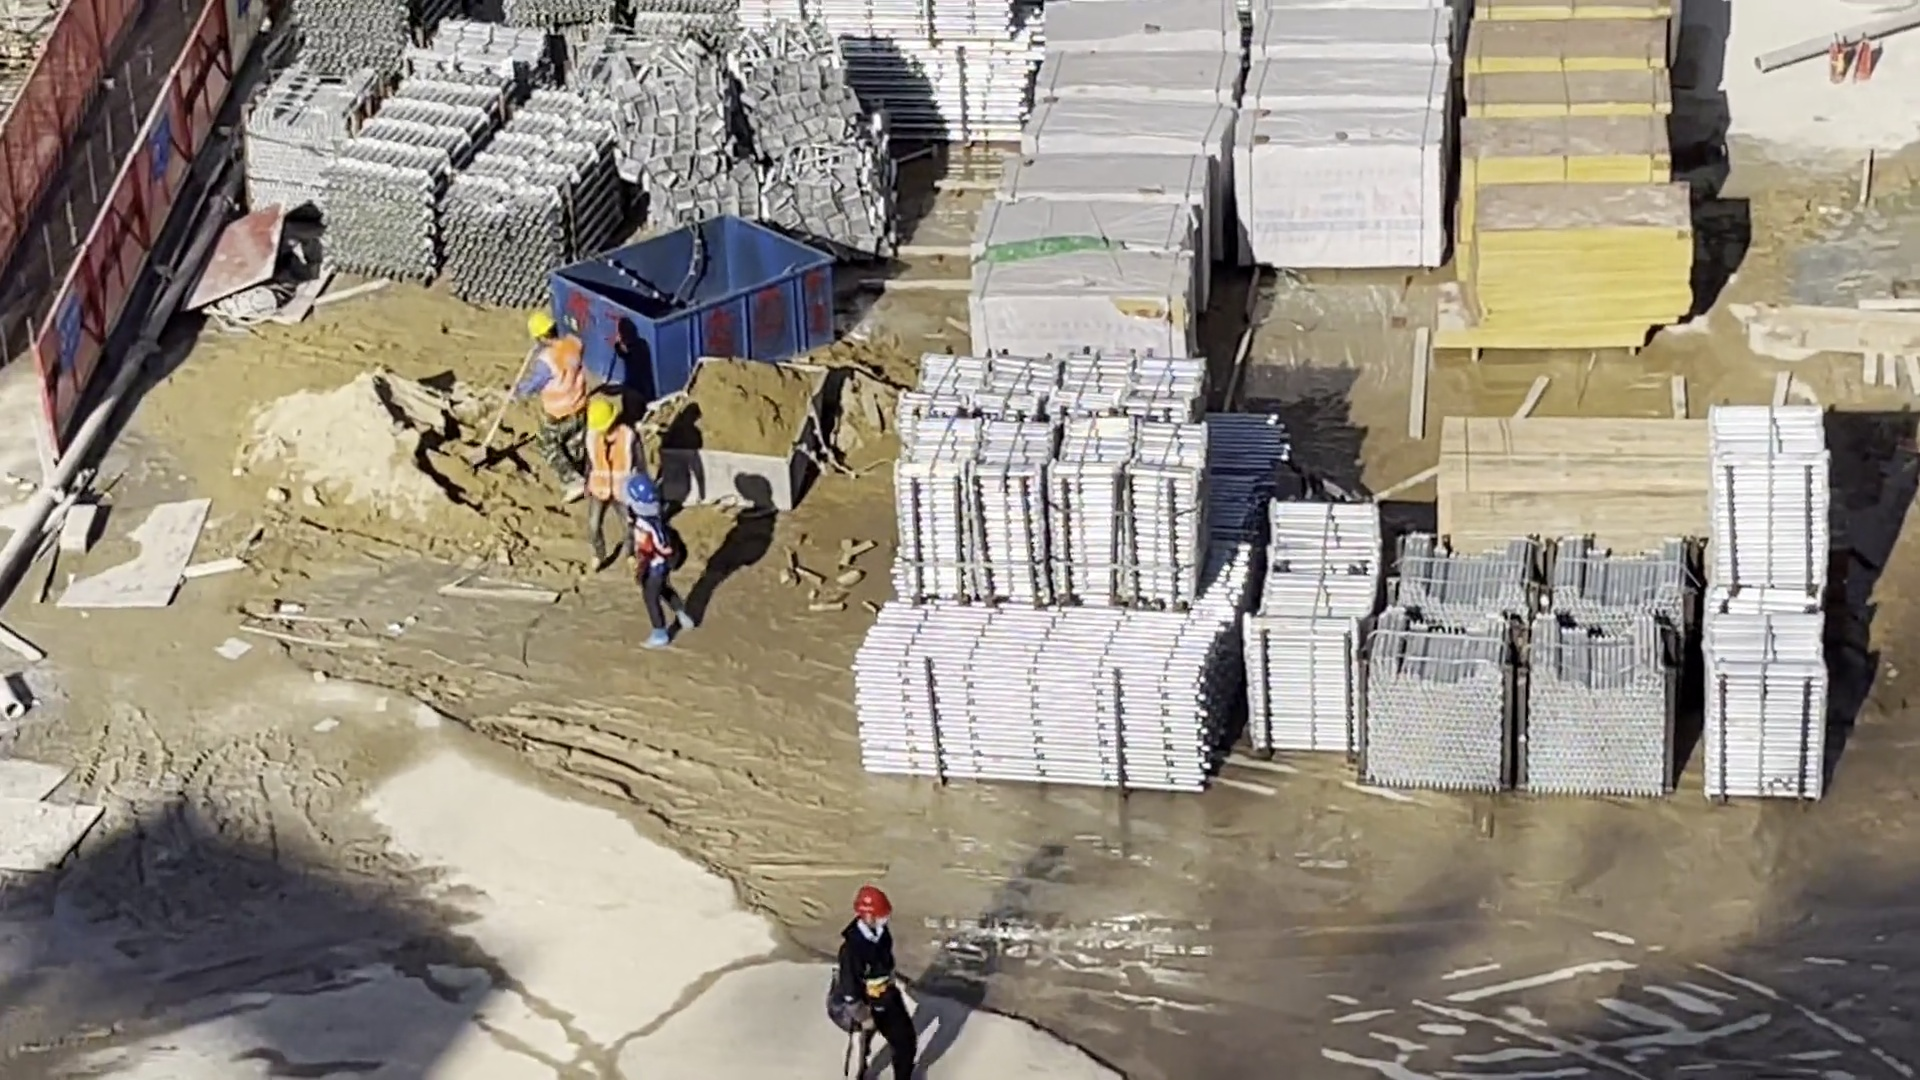board: (1455, 1, 1694, 341), (1435, 411, 1704, 535)
fence: (5, 7, 256, 423)
helmet: (853, 887, 892, 916), (586, 403, 616, 434), (628, 479, 659, 504), (528, 315, 556, 340)
hopper: (551, 216, 833, 401), (677, 353, 828, 512)
person: (838, 887, 914, 1080), (624, 480, 697, 651), (528, 314, 590, 503), (586, 403, 633, 570)
scaffold: (1363, 535, 1692, 800), (888, 356, 1206, 614), (855, 612, 1219, 791), (328, 79, 620, 296), (1701, 408, 1825, 799), (279, 3, 728, 95), (776, 1, 1028, 149), (1252, 507, 1373, 756)
slogan: (55, 292, 79, 361), (150, 111, 173, 183)
vest: (540, 345, 588, 416), (593, 433, 631, 497), (636, 511, 667, 574)
